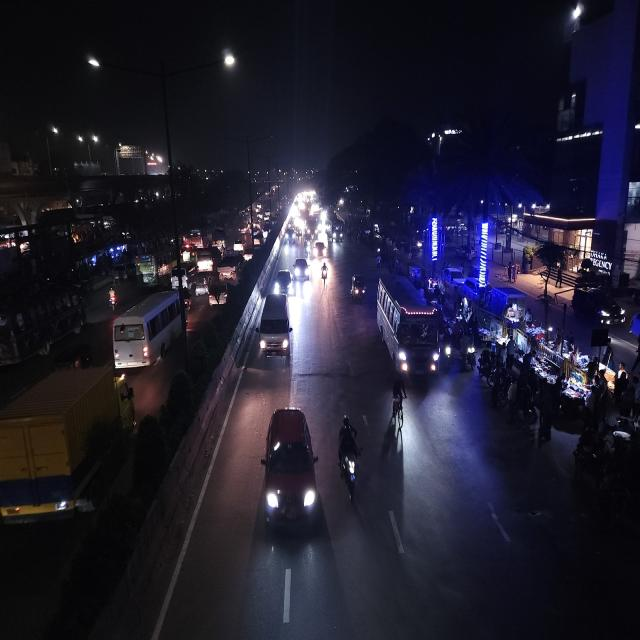bicycle: (386, 378, 409, 434)
bus: (375, 272, 445, 384), (109, 284, 189, 372), (326, 215, 344, 245)
car: (261, 403, 319, 543), (258, 291, 294, 364), (218, 253, 248, 287), (597, 302, 627, 329), (207, 275, 229, 311), (171, 262, 198, 288), (273, 267, 293, 297), (292, 254, 312, 284), (193, 246, 214, 273), (312, 238, 328, 260), (252, 231, 264, 250), (232, 238, 245, 253)
cng: (348, 272, 368, 306), (194, 272, 208, 298)
motorcycle: (336, 410, 364, 504), (105, 281, 120, 311), (320, 258, 330, 286)
truck: (0, 358, 136, 530)
